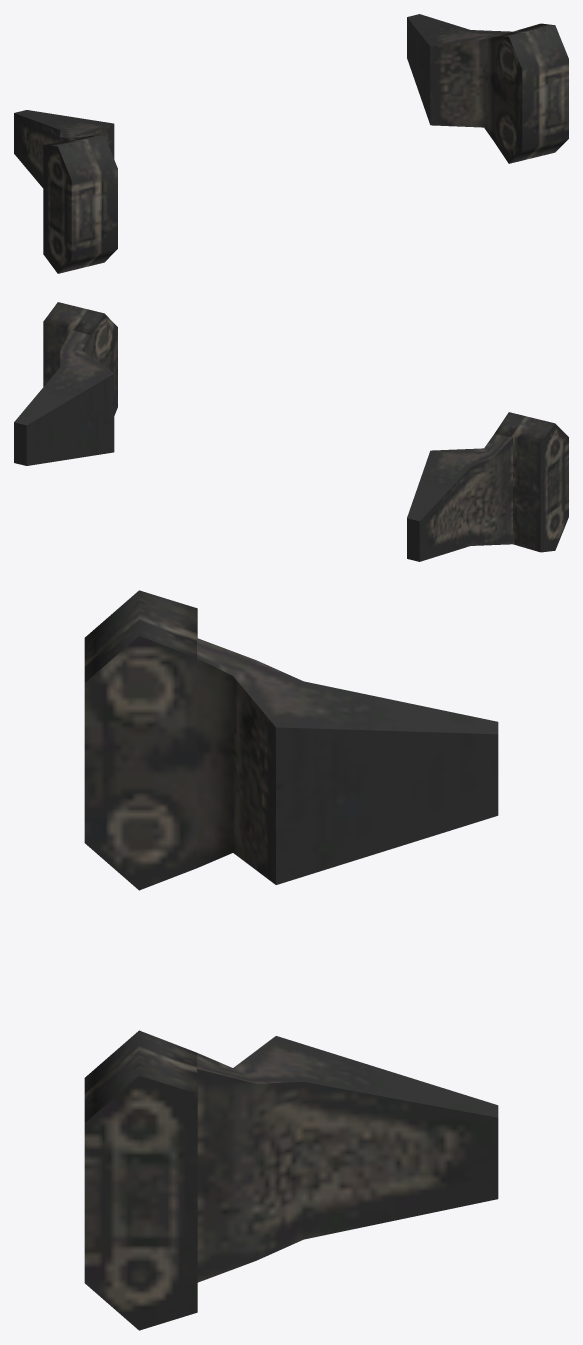
3 views of the same model, one above another, from view 1: azimuth 30°, elevation 25°; view 2: azimuth 150°, elevation 25°; view 3: azimuth 270°, elevation 25° (orthographic). The views are drawn at different scales.
Visible parts, largest first — view 1: set_0_group_0; view 2: set_0_group_0; view 3: set_0_group_0.
Part boxes in pixels (x1,y1,x2,y2): set_0_group_0: [14, 14, 568, 273]; set_0_group_0: [14, 302, 568, 561]; set_0_group_0: [84, 590, 498, 1330].
Size of the model in its own units: 0.4193 by 0.1026 by 0.151.
1 material, 1 textured.
